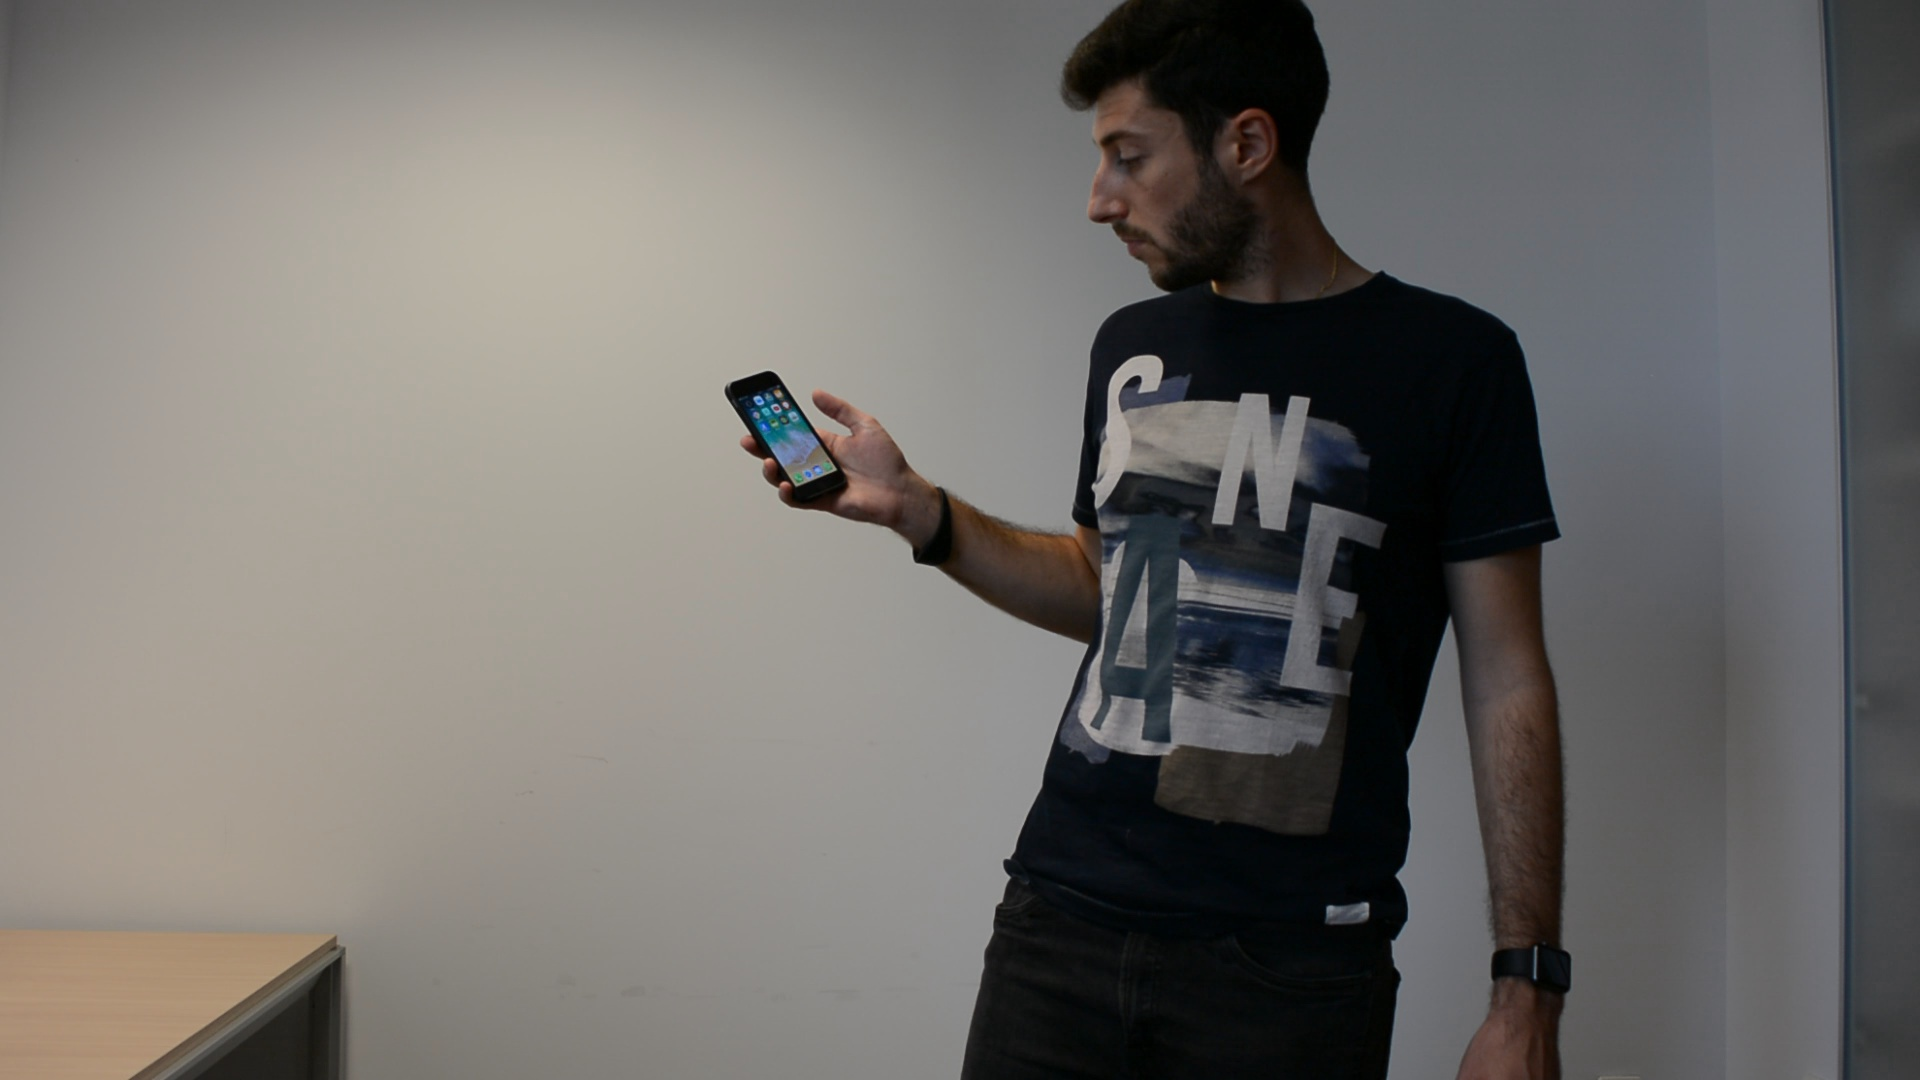smartphone: (723, 368, 851, 506)
